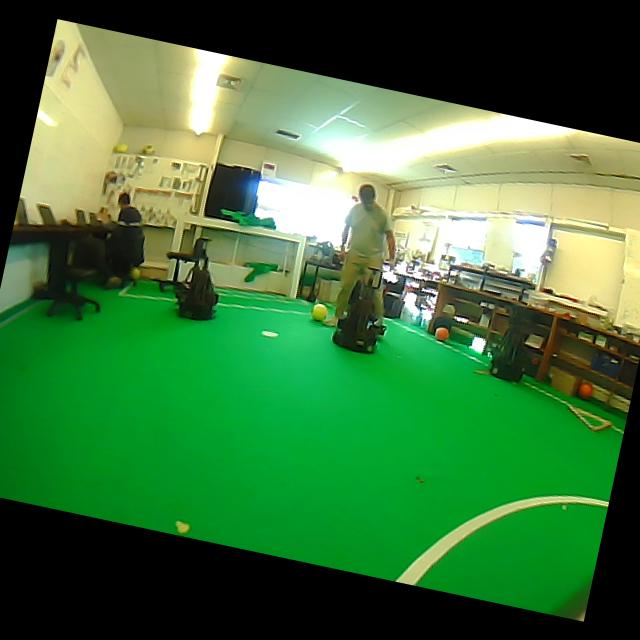ball: (311, 303, 327, 321), (577, 381, 593, 399), (434, 326, 448, 341), (129, 266, 140, 285), (114, 143, 128, 153), (142, 143, 153, 155)
goal: (288, 235, 305, 297)
robot: (332, 268, 381, 353), (175, 237, 217, 319), (489, 305, 530, 382)
